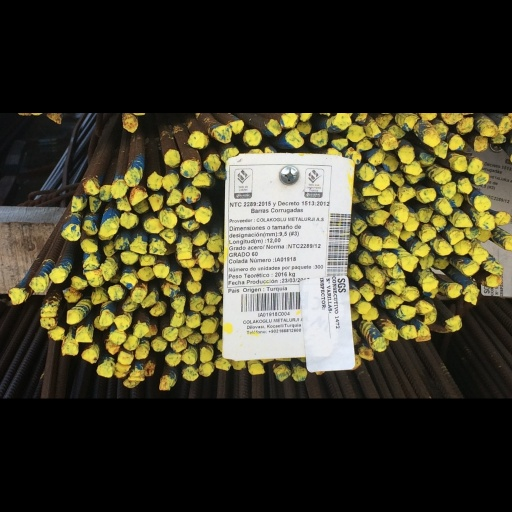dipstick: (364, 264, 386, 284), (285, 129, 305, 148), (187, 131, 208, 149), (477, 212, 496, 231), (432, 166, 452, 184), (469, 246, 489, 264), (400, 254, 418, 273), (243, 129, 262, 147), (202, 155, 221, 173), (180, 160, 199, 178), (118, 211, 137, 229), (60, 224, 80, 241), (144, 217, 164, 234), (212, 126, 233, 142), (83, 270, 104, 286), (130, 187, 148, 205), (422, 128, 439, 147), (472, 194, 491, 211), (401, 286, 420, 303), (397, 187, 416, 204), (205, 234, 222, 253), (192, 174, 213, 189), (463, 284, 480, 302), (388, 123, 406, 140), (365, 120, 382, 138), (161, 174, 179, 191), (82, 179, 100, 196), (81, 219, 98, 237), (99, 220, 117, 237), (80, 347, 98, 364), (7, 288, 25, 305), (455, 213, 474, 229), (399, 145, 415, 164), (309, 130, 328, 146), (195, 206, 211, 225), (148, 238, 167, 254), (121, 271, 137, 290), (161, 281, 180, 297), (78, 238, 98, 253), (119, 250, 139, 265), (454, 239, 471, 256), (110, 181, 127, 198), (164, 189, 181, 206), (160, 227, 177, 244), (130, 237, 147, 254), (107, 284, 124, 301), (437, 198, 455, 214), (444, 316, 462, 332), (386, 279, 404, 295), (359, 282, 375, 300), (382, 153, 398, 171), (403, 114, 419, 132), (348, 124, 366, 140), (345, 146, 361, 164), (334, 113, 352, 129), (163, 150, 181, 166), (182, 187, 200, 203), (148, 193, 164, 211), (175, 243, 193, 259), (274, 364, 290, 382), (434, 122, 449, 141), (458, 176, 473, 195), (460, 262, 479, 277), (385, 294, 404, 309), (280, 113, 299, 128), (61, 288, 80, 303), (483, 260, 503, 274), (330, 137, 350, 151), (181, 219, 201, 233), (457, 116, 473, 133), (431, 215, 447, 232), (399, 304, 416, 320), (374, 173, 391, 189), (381, 134, 398, 150), (91, 287, 107, 304), (170, 296, 186, 313), (158, 375, 174, 392), (433, 141, 448, 159), (446, 281, 461, 299), (387, 264, 405, 279), (377, 190, 395, 205), (228, 120, 246, 135), (176, 204, 194, 219), (154, 262, 169, 280), (130, 285, 145, 303), (65, 309, 83, 324), (161, 326, 179, 341), (103, 339, 121, 354), (480, 123, 499, 137), (404, 161, 423, 175), (147, 171, 161, 190), (113, 197, 132, 211), (473, 135, 489, 151), (416, 299, 432, 315), (359, 164, 375, 180), (98, 185, 114, 201), (162, 212, 178, 228), (197, 252, 213, 268), (151, 336, 167, 352), (466, 158, 483, 173), (441, 181, 456, 198), (433, 255, 450, 270), (417, 206, 432, 223), (357, 345, 374, 360), (358, 250, 375, 265), (348, 264, 363, 281), (351, 219, 366, 236), (404, 213, 419, 230), (266, 118, 281, 135), (125, 170, 140, 187), (184, 278, 201, 293), (71, 275, 88, 290), (188, 294, 203, 311), (170, 338, 187, 353), (439, 113, 462, 124), (446, 228, 464, 242), (70, 195, 84, 213), (365, 196, 383, 210), (362, 183, 381, 196), (403, 173, 425, 184), (452, 156, 467, 172), (495, 211, 510, 227), (422, 274, 438, 289), (415, 327, 431, 342), (372, 209, 387, 225), (401, 227, 416, 243), (392, 207, 408, 222), (369, 149, 384, 165), (377, 113, 393, 128), (122, 117, 137, 133), (88, 196, 103, 212), (192, 231, 208, 246), (138, 266, 154, 281), (166, 270, 181, 286), (122, 297, 138, 312), (61, 342, 77, 357), (170, 311, 186, 326), (113, 315, 129, 330), (123, 336, 139, 351), (199, 346, 214, 362), (181, 366, 197, 381), (292, 366, 307, 382), (419, 188, 436, 202), (400, 325, 417, 339), (382, 328, 399, 342), (372, 338, 389, 352), (368, 235, 382, 252), (83, 255, 100, 269), (49, 269, 66, 283), (76, 329, 93, 343), (95, 363, 112, 377), (164, 352, 181, 366), (351, 188, 365, 205), (498, 114, 511, 132), (345, 236, 358, 254), (108, 330, 126, 343), (449, 135, 464, 150), (142, 292, 157, 307), (187, 331, 202, 346), (198, 362, 213, 377), (473, 171, 489, 185), (449, 192, 463, 208), (437, 241, 453, 255), (414, 243, 430, 257), (362, 307, 378, 321), (384, 236, 400, 250), (222, 148, 238, 162), (100, 242, 116, 256), (140, 253, 156, 267), (205, 291, 221, 305), (176, 325, 192, 339), (249, 362, 265, 376), (134, 199, 150, 213), (485, 274, 502, 287), (188, 267, 205, 280), (32, 277, 45, 294), (426, 305, 437, 325), (422, 286, 440, 298), (380, 253, 398, 265), (357, 138, 372, 152), (297, 120, 312, 134), (162, 242, 176, 257), (149, 303, 164, 317), (93, 316, 107, 331), (215, 357, 230, 371), (130, 369, 145, 383), (100, 262, 111, 281), (100, 309, 113, 325), (117, 350, 133, 363), (40, 305, 58, 316), (46, 328, 64, 339), (464, 226, 478, 240), (116, 236, 130, 250), (186, 313, 200, 327), (133, 323, 147, 337), (135, 346, 149, 360), (419, 152, 434, 165), (477, 229, 492, 242), (419, 256, 434, 269), (388, 220, 401, 235), (389, 173, 404, 186), (201, 319, 216, 332), (356, 301, 372, 313), (203, 332, 219, 344), (183, 350, 195, 366), (143, 361, 155, 377), (177, 259, 196, 269), (351, 328, 361, 347), (348, 288, 359, 305), (40, 318, 57, 329), (350, 306, 361, 323), (374, 282, 387, 296), (232, 359, 246, 372), (491, 133, 506, 145), (207, 259, 219, 274), (201, 306, 217, 317), (144, 327, 158, 338), (503, 236, 512, 249)
